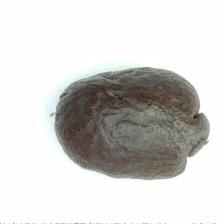NG: (181, 97, 211, 170)
